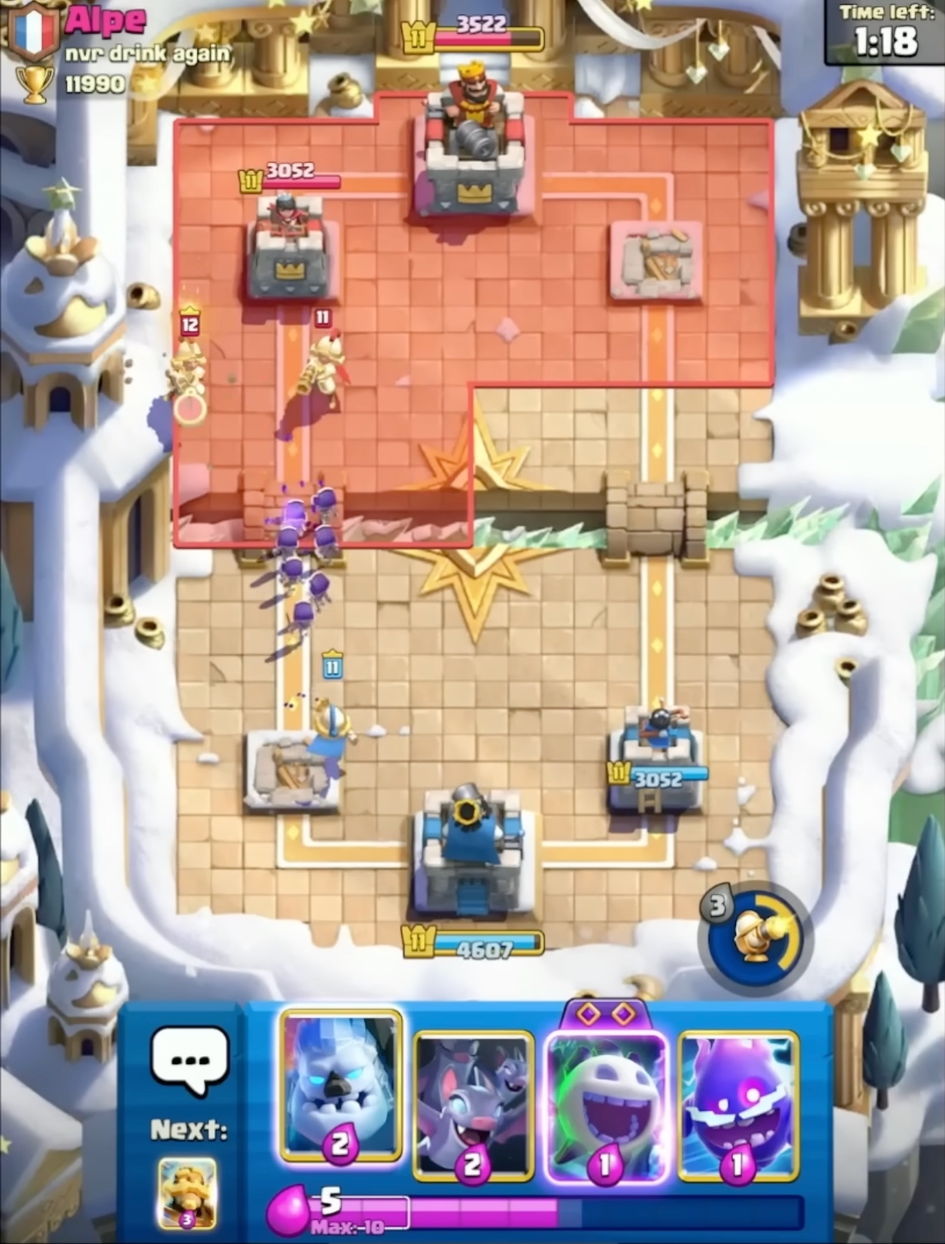hero-musketeer: (292, 306, 357, 424), (161, 304, 219, 428)
